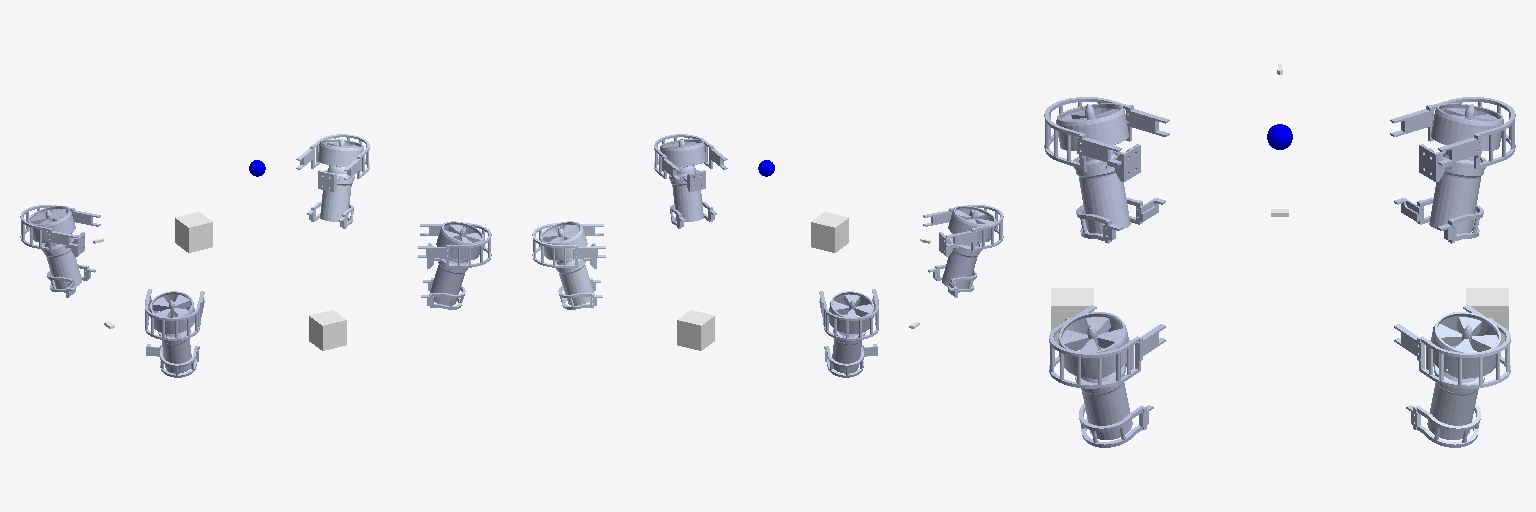
The robot description file, URDF, robot "zh_bot":
<?xml version="1.0"?>
<robot
  name="zh_bot">

  <link
    name="base_link">
    <inertial>
      <origin
        xyz="-0.1 0.0 -0.2"
        rpy="0 0 0" />
      <mass
        value="100" />
      <inertia
        ixx="3.0813"
        ixy="0.013891"
        ixz="-0.00072542"
        iyy="3.1072"
        iyz="-0.0094605"
        izz="6.007" />
    </inertial>
    <visual>
      <origin
        xyz="0 0 0"
        rpy="0 0 0" />
      <geometry>
        <mesh
          filename="package://uwrobot_description/meshes/base_link.STL" />
      </geometry>
      <material
        name="base">
        <color
          rgba="1 1 1 1" />
      </material>
    </visual>
    <collision>
      <origin
        xyz="-0.1 0 -0.15"
        rpy="0 0 0" />
      <geometry>
        <box size="1.6 1.0 0.3"/>
      </geometry>
    </collision>
  </link>

  <link
    name="RF0">
    <inertial>
      <origin
        xyz="0.0023406 -0.0016518 -0.14767"
        rpy="0 0 0" />
      <mass
        value="4.0" />
      <inertia
        ixx="0.021401"
        ixy="-0.001495"
        ixz="-0.0004086"
        iyy="0.019922"
        iyz="0.00039228"
        izz="0.015368" />
    </inertial>
    <visual>
      <origin
        xyz="0 0 0"
        rpy="0 0 0" />
      <geometry>
        <mesh
          filename="package://uwrobot_description/meshes/RF0.STL" />
      </geometry>
      <material
        name="">
        <color
          rgba="0.79216 0.81961 0.93333 1" />
      </material>
    </visual>
    <collision>
      <origin
        xyz="0 0 0"
        rpy="0 0 0" />
      <geometry>
        <cylinder radius="0.05" length="0.20"/>
      </geometry>
    </collision>
  </link>

  <joint
    name="joint0"
    type="fixed">
    <origin
      xyz="0.6047 -0.43671 -0.04739"
      rpy="0.16029 0.21768 0" />
    <parent
      link="base_link" />
    <child
      link="RF0" />
    <!-- <axis
      xyz="0 0 -1" /> -->
  </joint>

  <link
    name="LF1">
    <inertial>
      <origin
        xyz="0.00233195100255057 0.00162732509492236 -0.147642917138265"
        rpy="0 0 0" />
      <mass
        value="4" />
      <inertia
        ixx="0.0214018537918984"
        ixy="0.00150808938927734"
        ixz="-0.000409110945357784"
        iyy="0.0199261791969305"
        iyz="-0.000401995809562779"
        izz="0.0153710314309325" />
    </inertial>
    <visual>
      <origin
        xyz="0 0 0"
        rpy="0 0 0" />
      <geometry>
        <mesh
          filename="package://uwrobot_description/meshes/LF1.STL" />
      </geometry>
      <material
        name="">
        <color
          rgba="0.866666666666667 0.909803921568627 1 1" />
      </material>
    </visual>
    <collision>
      <origin
        xyz="0 0 0"
        rpy="0 0 0" />
      <geometry>
        <cylinder radius="0.05" length="0.20"/>
      </geometry>
    </collision>
  </link>

  <joint
    name="joint1"
    type="fixed">
    <origin
      xyz="0.604696931292277 0.436722940576791 -0.0473901548920162"
      rpy="-0.160290015126688 0.217683299669159 0" />
    <parent
      link="base_link" />
    <child
      link="LF1" />
    <!-- <axis
      xyz="0 0 -1" /> -->
  </joint>

  <link
    name="LH2">
    <inertial>
      <origin
        xyz="0.0275567633576045 0.00109661730481131 -0.144623002135796"
        rpy="0 0 0" />
      <mass
        value="4" />
      <inertia
        ixx="0.0197323238356641"
        ixy="-0.0014951907177159"
        ixz="0.00151691961343762"
        iyy="0.0212564711305958"
        iyz="-0.000472835199711724"
        izz="0.0158952033282192" />
    </inertial>
    <visual>
      <origin
        xyz="0 0 0"
        rpy="0 0 0" />
      <geometry>
        <mesh
          filename="package://uwrobot_description/meshes/LH2.STL" />
      </geometry>
      <material
        name="">
        <color
          rgba="0.792156862745098 0.819607843137255 0.933333333333333 1" />
      </material>
    </visual>
    <collision>
      <origin
        xyz="0 0 0"
        rpy="0 0 0" />
      <geometry>
        <cylinder radius="0.05" length="0.20"/>
      </geometry>
    </collision>
  </link>

  <joint
    name="joint2"
    type="fixed">
    <origin
      xyz="-0.611604847132862 0.441698528983451 -0.050206810202805"
      rpy="-0.165170447844218 0 0" />
    <parent
      link="base_link" />
    <child
      link="LH2" />
    <!-- <axis
      xyz="0.200237230601653 0 -0.979747442701934" /> -->
  </joint>

  <link
    name="RH3">
    <inertial>
      <origin
        xyz="0.027556670090006 -0.00109309808291025 -0.14459432166978"
        rpy="0 0 0" />
      <mass
        value="4" />
      <inertia
        ixx="0.0197350389334063"
        ixy="0.00149389365073578"
        ixz="0.00151704931142499"
        iyy="0.0212579177684125"
        iyz="0.000471302773406696"
        izz="0.0158987471998195" />
    </inertial>
    <visual>
      <origin
        xyz="0 0 0"
        rpy="0 0 0" />
      <geometry>
        <mesh
          filename="package://uwrobot_description/meshes/RH3.STL" />
      </geometry>
      <material
        name="">
        <color
          rgba="0.792156862745098 0.819607843137255 0.933333333333333 1" />
      </material>
    </visual>
    <collision>
      <origin
        xyz="0 0 0"
        rpy="0 0 0" />
      <geometry>
        <cylinder radius="0.05" length="0.20"/>
      </geometry>
    </collision>
  </link>
  
  <joint
    name="joint3"
    type="fixed">
    <origin
      xyz="-0.611604389313919 -0.441682804261644 -0.0502066838133057"
      rpy="0.165170447844218 0 0" />
    <parent
      link="base_link" />
    <child
      link="RH3" />
    <!-- <axis
      xyz="0.200237230601654 0 -0.979747442701934" /> -->
  </joint>


<!-- =========================================left_wheel_link========================================= -->
  <link
    name="left_wheel_link">
    <inertial>
      <origin
        xyz="4.8186015848134E-06 -0.0399986128209614 3.6749762934718E-06"
        rpy="0 0 0" />
      <mass
        value="2" />
      <inertia
        ixx="0.0110755908108466"
        ixy="1.36790525594817E-07"
        ixz="5.85948575294965E-08"
        iyy="0.0202642161943625"
        iyz="1.03551682354368E-07"
        izz="0.0110755588818494" />
    </inertial>
    <visual>
      <origin
        xyz="0 0 0"
        rpy="0 0 0" />
      <geometry>
        <mesh
          filename="package://uwrobot_description/meshes/left_wheel_link.STL" />
      </geometry>
      <material
        name="">
        <color
          rgba="1 1 1 1" />
      </material>
    </visual>
    <!-- ★ 侧面标牌：白色薄盒，稍微伸出轮侧，随轮一起旋转 -->
    <visual name="left_wheel_marker">
      <origin xyz="0.15 0 0" rpy="0 1.5708 0"/>
      <geometry><box size="0.10 0.10 0.10"/></geometry>
      <material name="marker_mat"><color rgba="1 1 1 1"/></material>
    </visual>

    <collision>
      <origin xyz="0 -0.04 0" rpy="1.5708 0  0"/>
      <geometry><cylinder radius="0.13" length="0.08"/></geometry>
    </collision>

  </link>


  <joint
    name="left_wheel_joint"
    type="continuous">
    <origin
      xyz="-0.1355 0.47901 -0.3"
      rpy="0 0 0" />
    <parent
      link="base_link" />
    <child
      link="left_wheel_link" />
    <axis
      xyz="0 1 0" />
    <!-- <dynamics
      friction="0.8" /> -->
  </joint>
  
  <gazebo reference="left_wheel_link"><mu1>1.7</mu1><mu2>1.7</mu2></gazebo>
  <gazebo reference="left_wheel_link">
    <material>Gazebo/Red</material>
  </gazebo>

<!-- =========================================right_wheel_link========================================= -->

  <link
    name="right_wheel_link">
    <inertial>
      <origin
        xyz="-7.80542907308224E-07 0.039998613532473 6.00903970805061E-06"
        rpy="0 0 0" />
      <mass
        value="2" />
      <inertia
        ixx="0.0110755157021538"
        ixy="2.24382529961939E-08"
        ixz="-1.52203945984708E-08"
        iyy="0.0202642147087137"
        iyz="-1.70031721717458E-07"
        izz="0.0110756324642435" />
    </inertial>
    <visual>
      <origin
        xyz="0 0 0"
        rpy="0 0 0" />
      <geometry>
        <mesh
          filename="package://uwrobot_description/meshes/right_wheel_link.STL" />
      </geometry>
      <material
        name="">
        <color
          rgba="0.250980392156863 0.250980392156863 0.250980392156863 1" />
      </material>
    </visual>

    <!-- ★ 右侧标牌（与左对称） -->
    <visual name="right_wheel_marker">
      <origin xyz="0.15 0 0" rpy="0 1.5708 0"/>
      <geometry><box size="0.10 0.10 0.10"/></geometry>
      <material name="marker_mat"/>
    </visual>

    <collision>
      <origin xyz="0 0.04 0" rpy="1.5708 0  0"/>
      <geometry><cylinder radius="0.13" length="0.08"/></geometry>
    </collision>

  </link>

  <joint
    name="right_wheel_joint"
    type="continuous">
    <origin
      xyz="-0.1355 -0.47899 -0.3"
      rpy="0 0 0" />
    <parent
      link="base_link" />
    <child
      link="right_wheel_link" />
    <axis
      xyz="0 1 0" />
    <!-- <dynamics
      friction="0.8" /> -->
  </joint>

  <gazebo reference="right_wheel_link"><mu1>1.7</mu1><mu2>1.7</mu2></gazebo>
  <gazebo reference="right_wheel_link">
    <material>Gazebo/Red</material>
  </gazebo>

<!-- =========================================steering_wheel_link========================================= -->
  <link
    name="steering_wheel_link">
    <inertial>
      <origin
        xyz="-6.98189367431823E-09 0.000685095143032943 -0.124490103299074"
        rpy="0 0 0" />
      <mass
        value="6" />
      <inertia
        ixx="0.010862223883712"
        ixy="-8.58763343924575E-10"
        ixz="2.20743573161259E-09"
        iyy="0.0167921581568667"
        iyz="-1.32732117884937E-09"
        izz="0.0108559538403776" />
    </inertial>
    <visual>
      <origin
        xyz="0 0 0"
        rpy="0 0 0" />
      <geometry>
        <mesh
          filename="package://uwrobot_description/meshes/steering_wheel_link.STL" />
      </geometry>
      <material
        name="">
        <color
          rgba="1 0.949019607843137 0.909803921568627 1" />
      </material>
    </visual>

   <!-- ★ 上侧标牌（改为箭头） -->
    <!-- 箭杆：白色长方条 -->
    <visual name="steering_wheel_arrow_shaft">
      <origin xyz="0.0 0 0.2" rpy="0 0 1.5708"/>
      <geometry><box size="0.01 0.03 0.01"/></geometry> <!-- 细长条作为箭杆 -->
      <material name="marker_mat"/>
    </visual>
    
    <!-- 箭头头部：旋转45度的短方条 -->
    <visual name="steering_wheel_arrow_head">
      <origin xyz="0.018 0.0 0.2" rpy="0 0 2.3562"/> <!-- 0.7854=π/4弧度(45°) -->
      <geometry><box size="0.01 0.01 0.01"/></geometry> <!-- 短方条作为箭头 -->
      <material name="marker_mat"/>
    </visual>

    <collision>
      <origin
        xyz="0 0 0"
        rpy="0 0 0" />
      <geometry>
        <cylinder radius="0.05" length="0.20"/>
      </geometry>
    </collision>

  </link>

  <joint
    name="steering_wheel_joint"
    type="revolute">
    <origin
      xyz="-0.66013 0 -0.184"
      rpy="0 0 0" />
    <parent
      link="base_link" />
    <child
      link="steering_wheel_link" />
    <axis
      xyz="0 0 -1" />
    <limit lower="-3.1416" upper="3.1416" effort="5" velocity="1.0"/> 
  </joint>

  <gazebo reference="steering_wheel_link">
    <material>Gazebo/Green</material>
  </gazebo>

  <link
    name="caster_wheel_link">
    <inertial>
      <origin
        xyz="-1.96177979416845E-09 -1.32293065391309E-10 1.5746578346798E-09"
        rpy="0 0 0" />
      <mass
        value="2" />
      <inertia
        ixx="0.00736794236043888"
        ixy="-1.14231778540063E-10"
        ixz="3.25941703521962E-10"
        iyy="0.013691511727104"
        iyz="8.76381393602854E-11"
        izz="0.00736794234358851" />
    </inertial>
    <visual>
      <origin
        xyz="0 0 0"
        rpy="0 0 0" />
      <geometry>
        <mesh
          filename="package://uwrobot_description/meshes/caster_wheel_link.STL" />
      </geometry>
      <material
        name="">
        <color
          rgba="0.223529411764706 0.223529411764706 0.223529411764706 1" />
      </material>
    </visual>

    <!-- ★ 侧面标牌：白色薄盒，稍微伸出轮侧，随轮一起旋转 -->
    <visual name="caster_wheel_marker">
      <origin xyz="0.05 0 0" rpy="0 1.5708 0"/>
      <geometry><box size="0.01 0.04 0.02"/></geometry>
      <material name="marker_mat"><color rgba="1 1 1 1"/></material>
    </visual>
    
    <collision>
      <origin xyz="0 0 0" rpy="1.5708 0  0"/>
      <geometry><cylinder radius="0.10" length="0.15"/></geometry>
    </collision>

  </link>

  <joint
    name="caster_wheel_joint"
    type="continuous">
    <origin
      xyz="0 0 -0.1435"
      rpy="0 0 0" />
    <parent
      link="steering_wheel_link" />
    <child
      link="caster_wheel_link" />
    <axis
      xyz="0 -1 0" />
    <!-- <dynamics
      friction="0.8" /> -->
  </joint>

  <gazebo reference="caster_wheel_link">
    <material>Gazebo/Gold</material>
    <mu1>1.7</mu1> <mu2>1.7</mu2>
  </gazebo>

<!-- ──────────────────────────── Sensors ──────────────────────────── -->
  <!-- IMU (500 Hz, noiseless示例，可在插件内配置噪声) -->
  <link name="imu_link">
    <visual>
      <geometry><sphere radius="0.03"/></geometry>
      <material name="blue_imu"><color rgba="0 0 1 1"/></material>
    </visual>
  </link>
  <joint name="imu_fixed_joint" type="fixed">
    <origin xyz="0 0 0.15" rpy="0 0 0"/>
    <parent link="base_link"/>
    <child  link="imu_link"/>
  </joint>

  <gazebo reference="imu_link">
      <sensor name="imu_sensor" type="imu">
          <plugin name="imu_plugin" filename="libgazebo_ros_imu_sensor.so">
              <ros>
                  <namespace>/</namespace>
                  <remapping>~/out:=imu/data</remapping>
              </ros>
              <initial_orientation_as_reference>false</initial_orientation_as_reference>
          </plugin>
          <update_rate>500</update_rate>
          <always_on>true</always_on>
          <!-- 六轴噪声设置 -->
          <imu>
              <angular_velocity>
                  <x>
                      <noise type="gaussian">
                          <mean>0.0</mean>
                          <stddev>2e-4</stddev>
                          <bias_mean>0.0000075</bias_mean>
                          <bias_stddev>0.0000008</bias_stddev>
                      </noise>
                  </x>
                  <y>
                      <noise type="gaussian">
                          <mean>0.0</mean>
                          <stddev>2e-4</stddev>
                          <bias_mean>0.0000075</bias_mean>
                          <bias_stddev>0.0000008</bias_stddev>
                      </noise>
                  </y>
                  <z>
                      <noise type="gaussian">
                          <mean>0.0</mean>
                          <stddev>2e-4</stddev>
                          <bias_mean>0.0000075</bias_mean>
                          <bias_stddev>0.0000008</bias_stddev>
                      </noise>
                  </z>
              </angular_velocity>
              <linear_acceleration>
                  <x>
                      <noise type="gaussian">
                          <mean>0.0</mean>
                          <stddev>1.7e-2</stddev>
                          <bias_mean>0.1</bias_mean>
                          <bias_stddev>0.001</bias_stddev>
                      </noise>
                  </x>
                  <y>
                      <noise type="gaussian">
                          <mean>0.0</mean>
                          <stddev>1.7e-2</stddev>
                          <bias_mean>0.1</bias_mean>
                          <bias_stddev>0.001</bias_stddev>
                      </noise>
                  </y>
                  <z>
                      <noise type="gaussian">
                          <mean>0.0</mean>
                          <stddev>1.7e-2</stddev>
                          <bias_mean>0.1</bias_mean>
                          <bias_stddev>0.001</bias_stddev>
                      </noise>
                  </z>
              </linear_acceleration>
          </imu>
      </sensor>
  </gazebo>

  <!-- ─────────────────────── ros2_control transmissions ─────────────── -->
  <transmission name="left_wheel_trans">
    <type>transmission_interface/SimpleTransmission</type>
    <joint name="left_wheel_joint">
      <hardwareInterface>hardware_interface/velocity</hardwareInterface>
    </joint>
    <actuator name="left_wheel_motor">
      <hardwareInterface>hardware_interface/velocity</hardwareInterface>
      <mechanicalReduction>1</mechanicalReduction>
    </actuator>
  </transmission>

  <transmission name="right_wheel_trans">
    <type>transmission_interface/SimpleTransmission</type>
    <joint name="right_wheel_joint">
      <hardwareInterface>hardware_interface/velocity</hardwareInterface>
    </joint>
    <actuator name="right_wheel_motor">
      <hardwareInterface>hardware_interface/velocity</hardwareInterface>
      <mechanicalReduction>1</mechanicalReduction>
    </actuator>
  </transmission>

  <transmission name="steering_trans">
    <type>transmission_interface/SimpleTransmission</type>
    <joint name="steering_wheel_joint">
      <hardwareInterface>hardware_interface/position</hardwareInterface>
    </joint>
    <actuator name="steering_motor">
      <hardwareInterface>hardware_interface/position</hardwareInterface>
      <mechanicalReduction>1</mechanicalReduction>
    </actuator>
  </transmission>

  <!-- ──────────────────────── Gazebo 插件 ──────────────────────────── -->
  <gazebo>
    <plugin filename="libgazebo_ros2_control.so" name="gazebo_ros2_control">
        <parameters>[local-path]/uwbot_ctl/src/robot_description/uwrobot/config/controllers.yaml</parameters>    
    </plugin>
  </gazebo>

  <!-- ──────────────────────── Gazebo 位置姿态 ──────────────────────────── -->
  <gazebo>
    <plugin name="p3d_base_controller" filename="libgazebo_ros_p3d.so">
      <body_name>base_link</body_name>
      <frameName>base_link</frameName>
      <referenceFrame>world</referenceFrame>
    </plugin>
  </gazebo>

  <!-- Show the trajectory of trunk center. -->
  <gazebo>
      <plugin name="3dplot" filename="libLinkPlot3DPlugin.so">
          <frequency>10</frequency>
          <plot>
              <link>base_link</link>
              <pose>0 0 0 0 0 0</pose>
              <material>Gazebo/Yellow</material>
          </plot>
      </plugin>
  </gazebo>

  <!-- ─────────────────────── ros2_control 配置 ─────────────────────── -->
  <ros2_control name="robot_ctr" type="system">
    <hardware>
      <plugin>gazebo_ros2_control/GazeboSystem</plugin>
    </hardware>

    <joint name="left_wheel_joint">
      <command_interface name="velocity"/>
      <state_interface name="position"/>
      <state_interface name="velocity"/>
    </joint>

    <joint name="right_wheel_joint">
      <command_interface name="velocity"/>
      <state_interface name="position"/>
      <state_interface name="velocity"/>
    </joint>

    <joint name="steering_wheel_joint">
      <command_interface name="position"/>
      <state_interface name="position"/>
      <state_interface name="velocity"/>
    </joint>
  </ros2_control>

</robot>

--- What the picture shows (computed from the rendered views, not written in the file) ---
The picture shows the robot from 3 angles, left to right: view 1: azimuth 30°, elevation 25°; view 2: azimuth 150°, elevation 25°; view 3: azimuth 270°, elevation 25°; orthographic projection.
Robot: zh_bot — 10 links, 9 joints (1 revolute, 3 continuous, 5 fixed); root link base_link; default pose: all joints at 0.
Visible links, largest first — view 1: LH2, RF0, LF1, RH3, left_wheel_link, right_wheel_link; view 2: RH3, LF1, RF0, LH2, left_wheel_link, right_wheel_link; view 3: RH3, LH2, RF0, LF1, left_wheel_link, right_wheel_link, imu_link.
Boxes of the visible links, x1=… form: LH2: x1=20, y1=205, x2=100, y2=297; RF0: x1=418, y1=221, x2=491, y2=309; LF1: x1=296, y1=134, x2=369, y2=228; RH3: x1=145, y1=289, x2=204, y2=377; left_wheel_link: x1=175, y1=212, x2=212, y2=252; right_wheel_link: x1=309, y1=310, x2=346, y2=350; RH3: x1=923, y1=205, x2=1003, y2=297; LF1: x1=532, y1=221, x2=605, y2=309; RF0: x1=654, y1=134, x2=727, y2=228; LH2: x1=819, y1=289, x2=878, y2=377; left_wheel_link: x1=677, y1=310, x2=714, y2=350; right_wheel_link: x1=811, y1=212, x2=848, y2=252; RH3: x1=1044, y1=97, x2=1169, y2=243; LH2: x1=1390, y1=97, x2=1515, y2=243; RF0: x1=1049, y1=305, x2=1165, y2=447; LF1: x1=1394, y1=305, x2=1510, y2=447; left_wheel_link: x1=1466, y1=288, x2=1508, y2=344; right_wheel_link: x1=1051, y1=288, x2=1093, y2=344; imu_link: x1=1267, y1=124, x2=1292, y2=149.
Size in the robot's own frame: 1.41 by 1.09 by 0.539 metres.
Meshes: 9 distinct files referenced, 4 mesh visuals loaded (4 binary STL); not drawn: 5 (reference not matched to a file when rendering).
